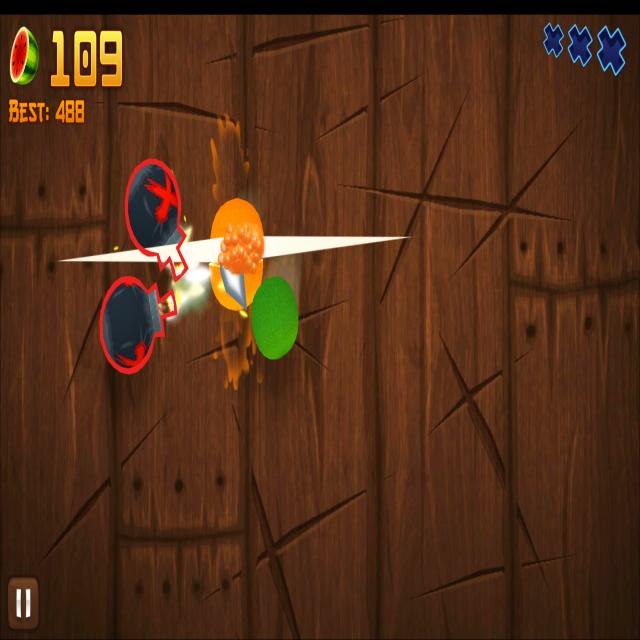bomb: (123, 156, 189, 282), (98, 274, 178, 376)
fruit: (210, 197, 264, 311), (251, 276, 300, 360)
